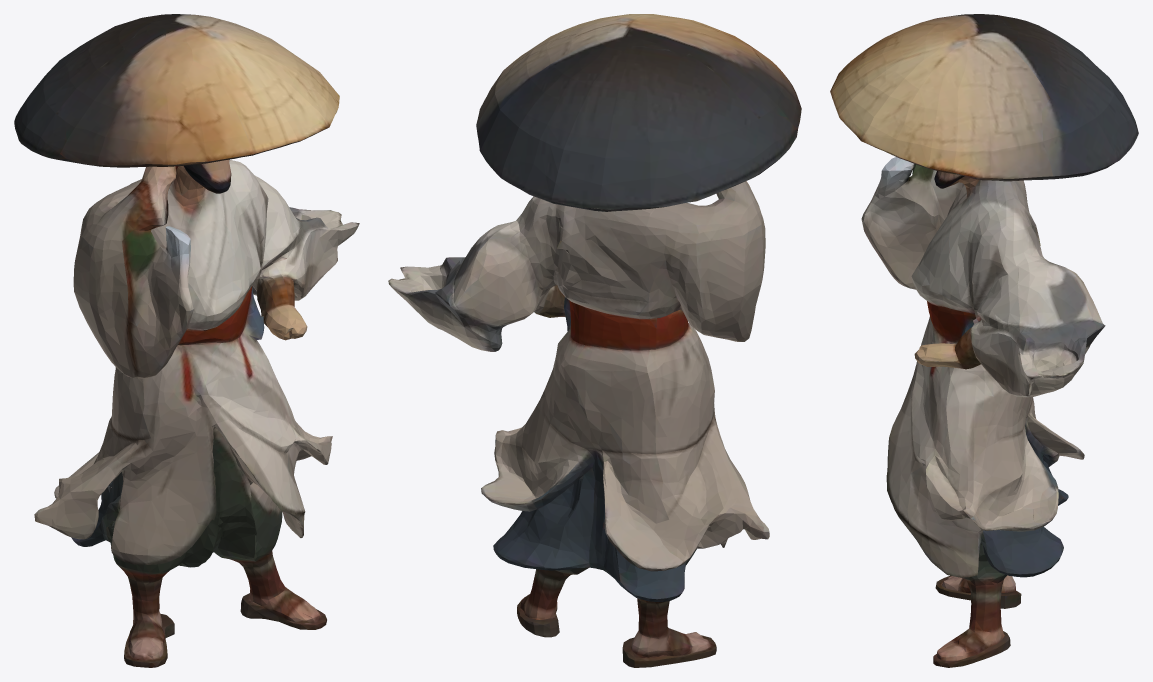
File: anime_ancient_merchant.glb
3 renders of one model, left to right at view 1: azimuth 30°, elevation 25°; view 2: azimuth 150°, elevation 25°; view 3: azimuth 270°, elevation 25°, orthographic. The views are drawn at different scales.
Visible parts, largest first — view 1: geometry_0; view 2: geometry_0; view 3: geometry_0.
Boxes of the visible parts, box(x1,y1,x2,y2) form: geometry_0: box(14, 14, 359, 667); geometry_0: box(388, 14, 801, 667); geometry_0: box(830, 14, 1138, 667).
Size of the model in its own units: 0.6016 by 0.9995 by 0.4822.
1 material, 1 textured.
